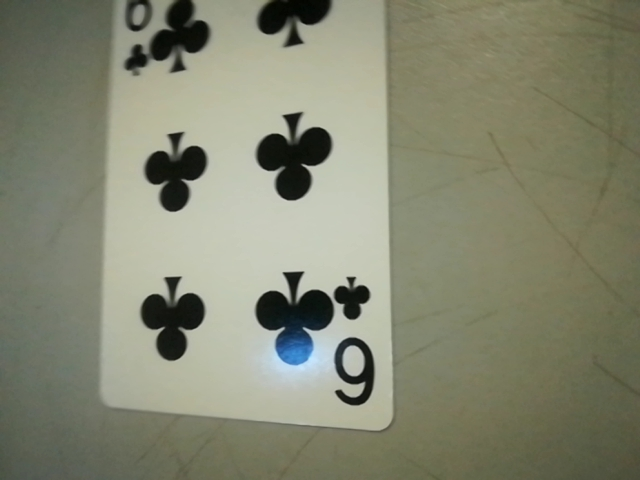mh 6: (326, 272, 390, 417)
